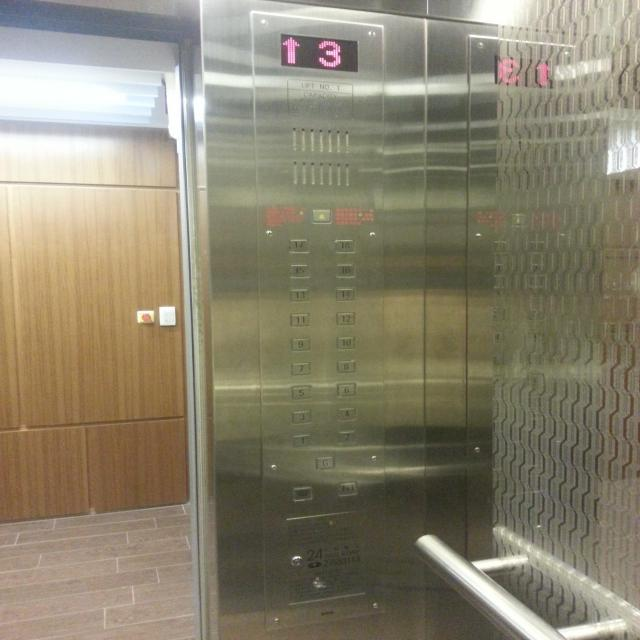1: (292, 433, 312, 448)
10: (336, 335, 356, 350)
11: (289, 312, 311, 327)
12: (335, 310, 356, 326)
13: (289, 287, 310, 303)
14: (335, 286, 356, 302)
15: (290, 263, 310, 278)
16: (336, 263, 355, 278)
17: (289, 238, 309, 253)
18: (334, 238, 355, 253)
2: (338, 430, 357, 444)
3: (291, 410, 312, 424)
4: (336, 406, 356, 421)
5: (290, 385, 313, 400)
6: (337, 382, 356, 397)
7: (290, 360, 312, 376)
8: (335, 358, 356, 374)
9: (290, 336, 311, 352)
G: (315, 455, 335, 470)
alarm: (311, 208, 332, 224)
close: (338, 480, 358, 497)
keyhole: (291, 555, 302, 567)
led: (280, 34, 359, 74)
open: (292, 484, 313, 502)
